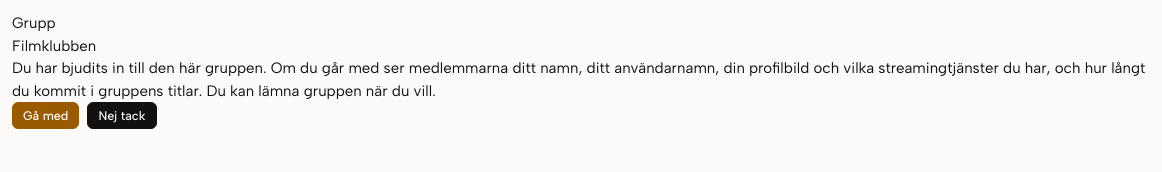
Test: GroupPageClient — inbjudningslänken frågar innan den går med (SEC-2) › kortet står kvar medan joinet pågår
Click the button "Gå med" at (46, 116), box 12,102 -> 79,129
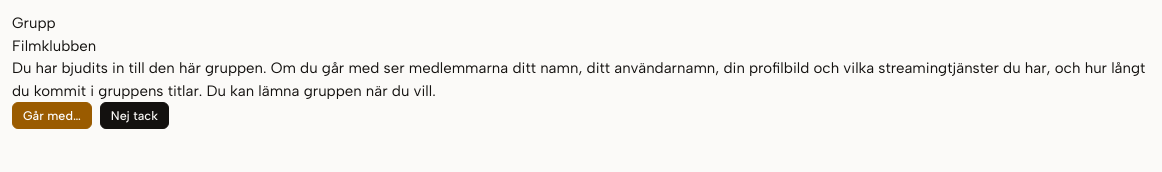
Expected: the button "Går med…" is disabled, 12,102 -> 92,129
